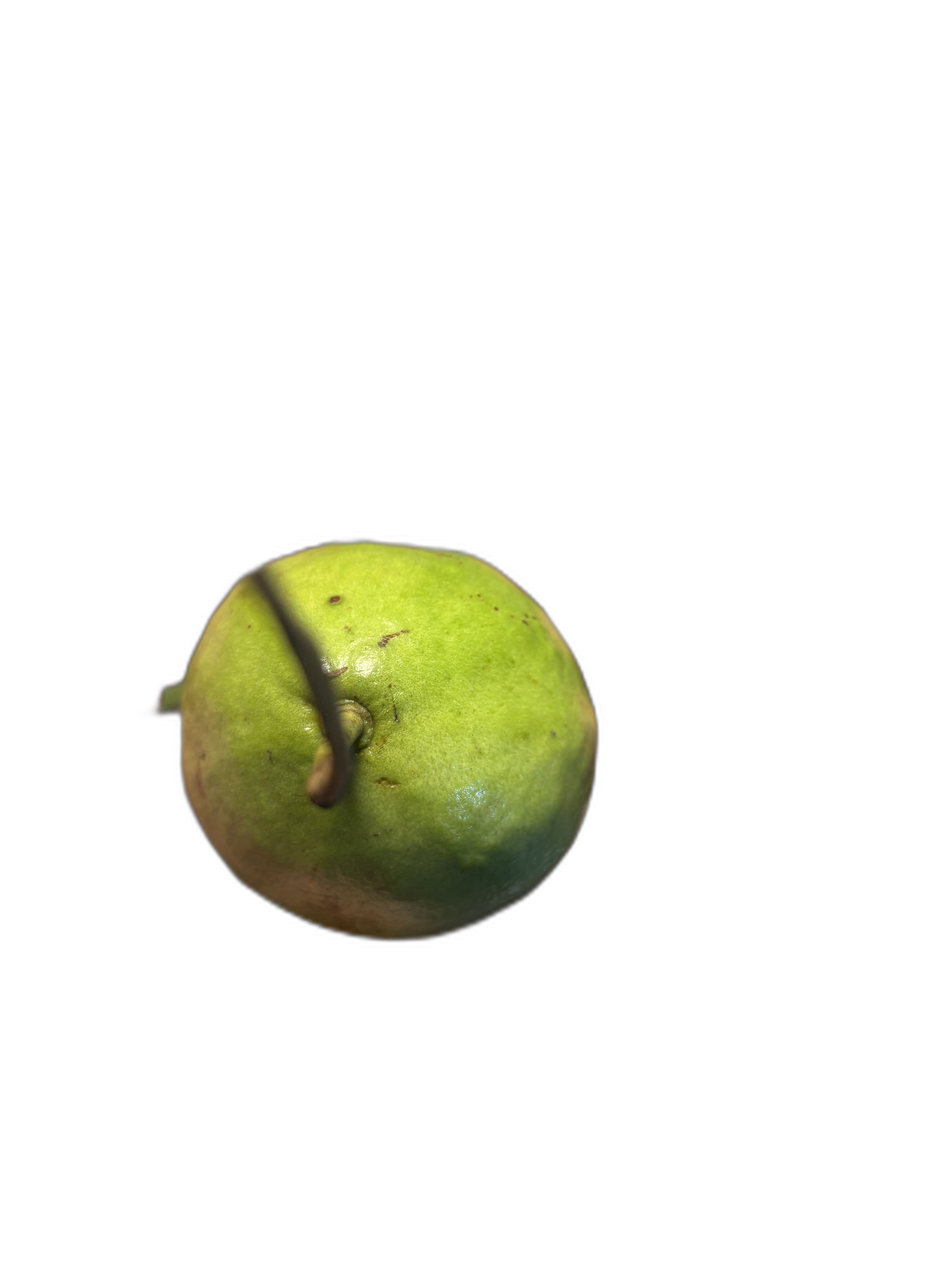guava: (82, 158, 909, 1168)
